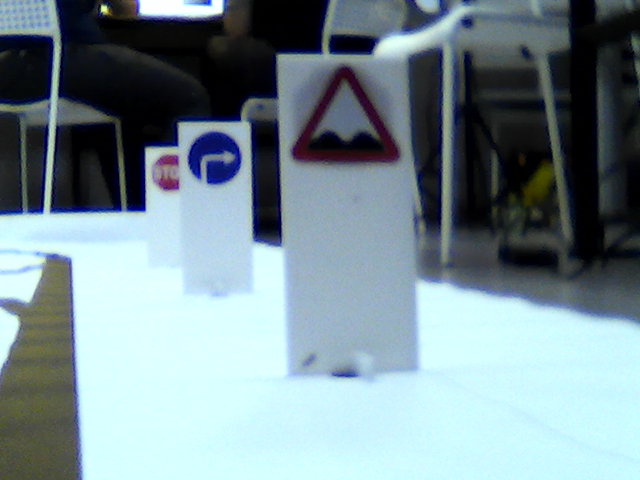Nerov: (291, 64, 404, 164)
Right: (187, 131, 243, 185)
